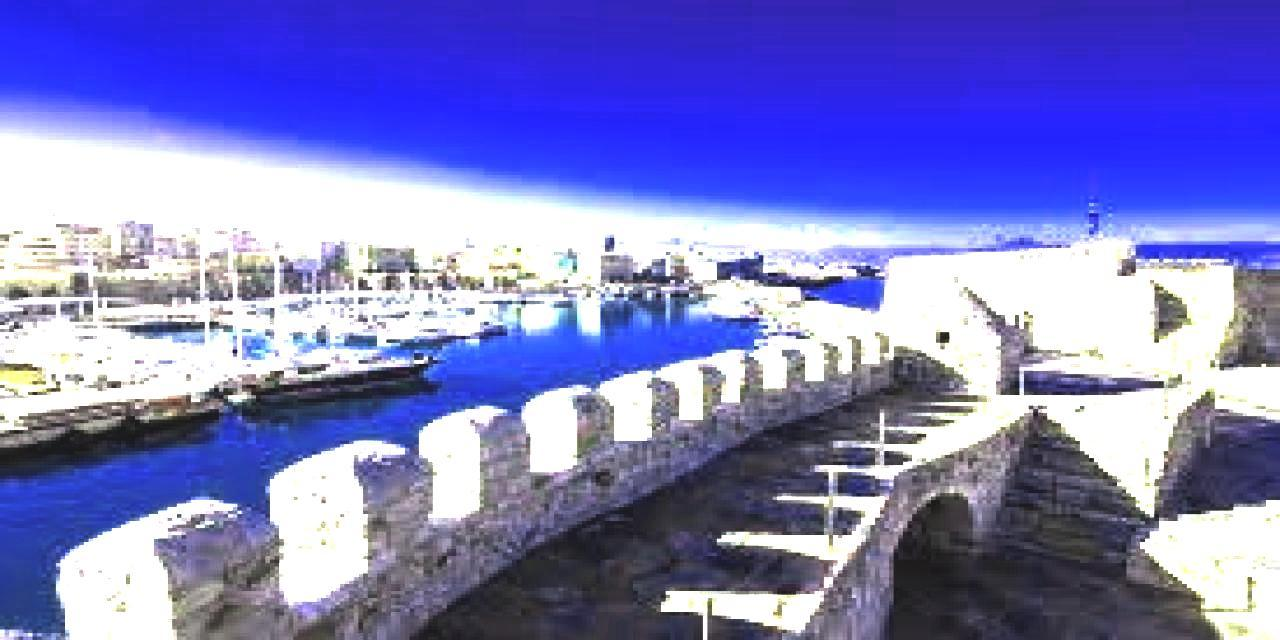Kules: (887, 239, 1280, 395)
